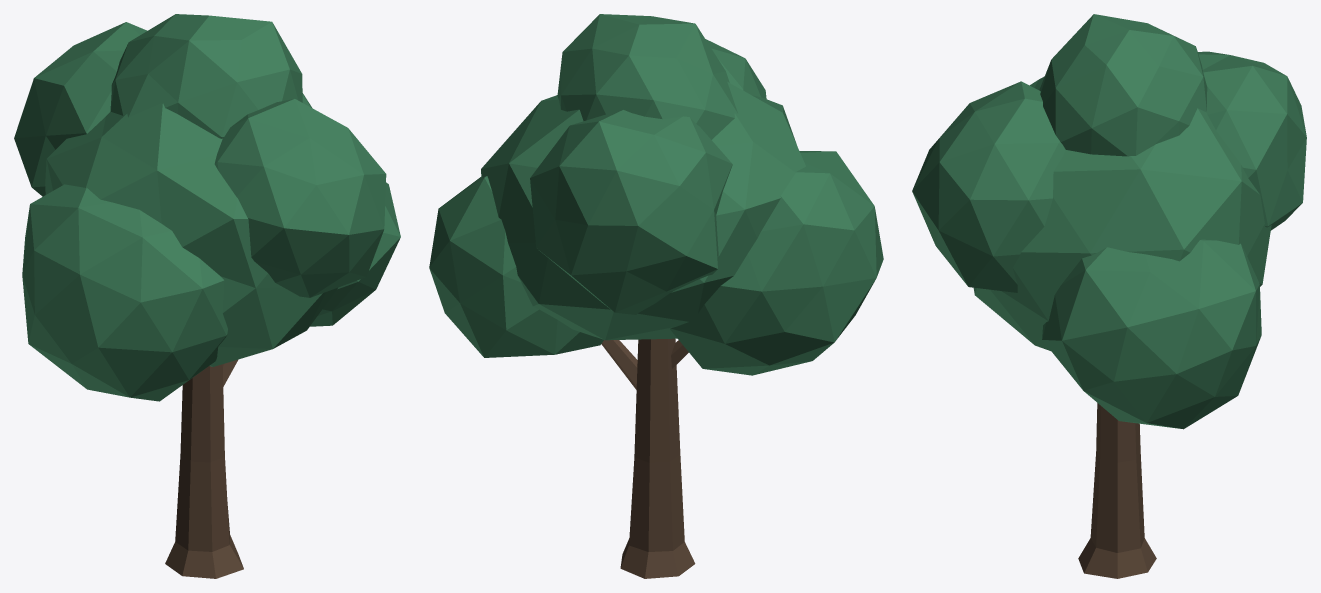
File: TreeRound.fbx
3 views of the same model, side by side, from view 1: azimuth 30°, elevation 25°; view 2: azimuth 150°, elevation 25°; view 3: azimuth 270°, elevation 25° (orthographic).
Visible parts, largest first — view 1: TreeRound; view 2: TreeRound; view 3: TreeRound.
Part boxes in pixels (bbox=[...]): TreeRound: bbox=[14, 14, 400, 578]; TreeRound: bbox=[429, 14, 883, 578]; TreeRound: bbox=[912, 14, 1306, 578].
Size of the model in its own units: 3.71 by 4.94 by 3.29.
